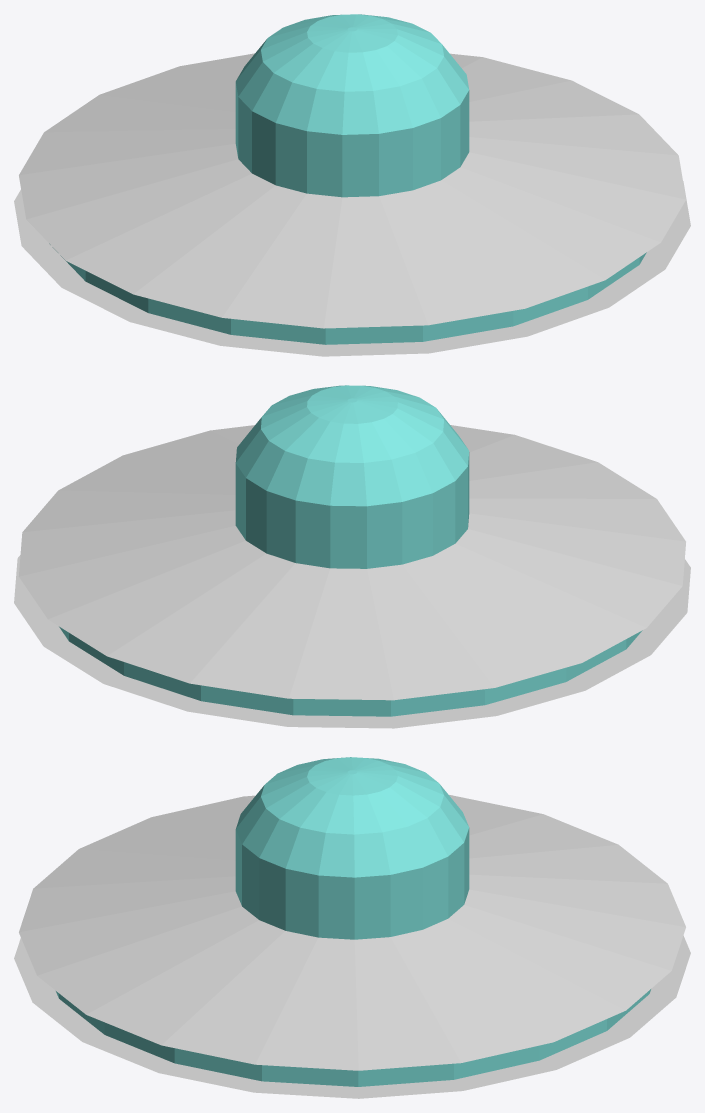
The model's file is ufo.fbx.
The picture shows the model from 3 angles, top to bottom: view 1: azimuth 30°, elevation 25°; view 2: azimuth 150°, elevation 25°; view 3: azimuth 270°, elevation 25°; orthographic projection.
Parts seen in each view (by area): view 1: Cylinder; view 2: Cylinder; view 3: Cylinder.
Part boxes in pixels (bbox=[...]): Cylinder: bbox=[14, 14, 690, 356]; Cylinder: bbox=[14, 385, 690, 728]; Cylinder: bbox=[14, 757, 690, 1098].
Size of the model in its own units: 524 by 223 by 524.
